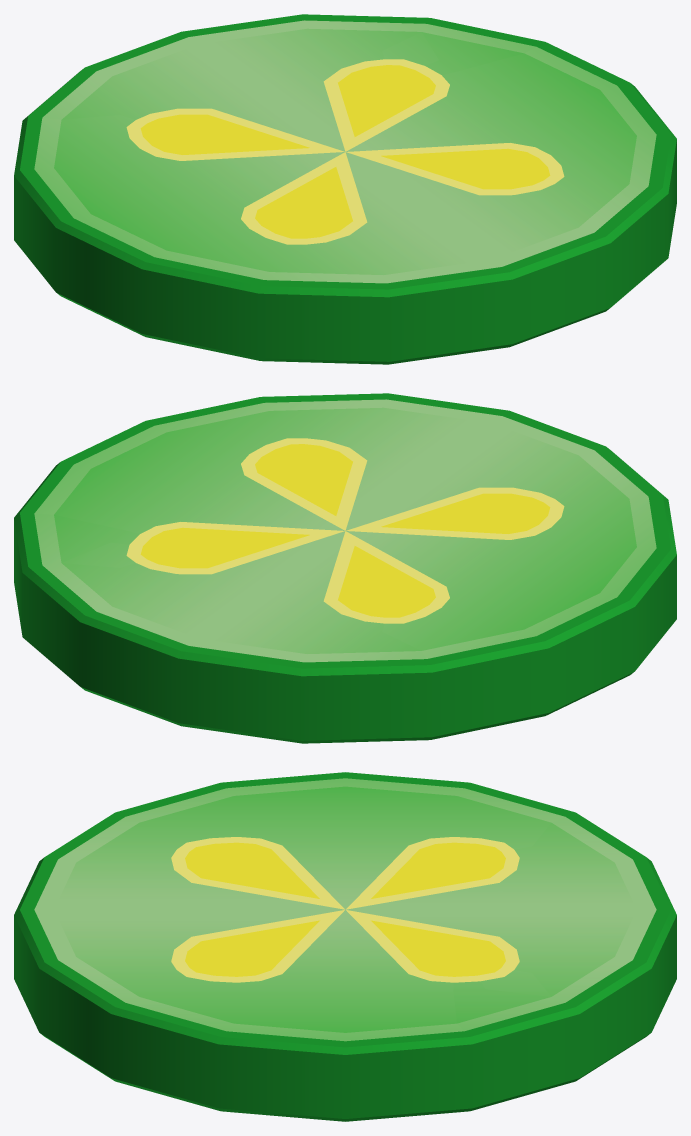
The model's file is Cucumber_slice .fbx.
The picture shows the model from 3 angles, top to bottom: view 1: azimuth 30°, elevation 25°; view 2: azimuth 150°, elevation 25°; view 3: azimuth 270°, elevation 25°; orthographic projection.
Parts seen in each view (by area): view 1: Cucumber_slice; view 2: Cucumber_slice; view 3: Cucumber_slice.
Part boxes in pixels (bbox=[...]): Cucumber_slice: bbox=[14, 14, 676, 364]; Cucumber_slice: bbox=[14, 393, 676, 743]; Cucumber_slice: bbox=[14, 772, 676, 1121].
Size of the model in its own units: 46.86 by 46.86 by 5.8.
